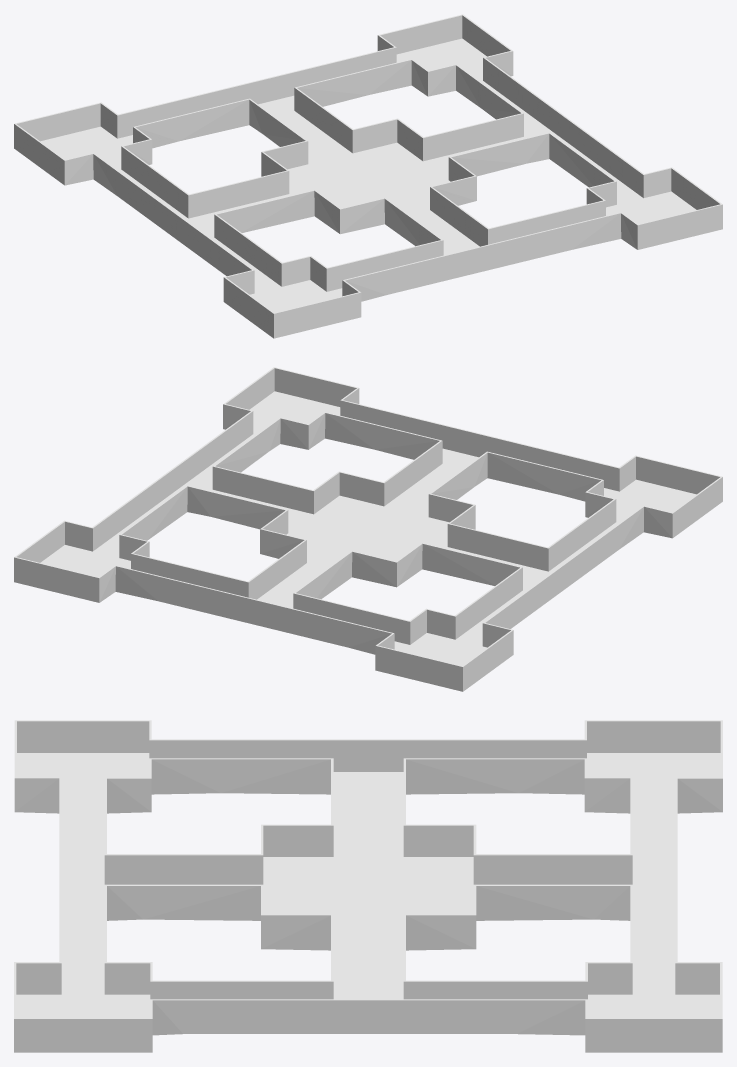
File: maze.obj
3 renders of one model, top to bottom at view 1: azimuth 30°, elevation 25°; view 2: azimuth 150°, elevation 25°; view 3: azimuth 270°, elevation 25°, orthographic. The views are drawn at different scales.
Visible parts, largest first — view 1: Plane; view 2: Plane; view 3: Plane.
Boxes of the visible parts, bbox=[...] form: Plane: bbox=[14, 14, 722, 338]; Plane: bbox=[14, 367, 722, 691]; Plane: bbox=[14, 720, 722, 1052].
Bounding box in the file's own units: 20.31 × 1.13 × 20.37.
